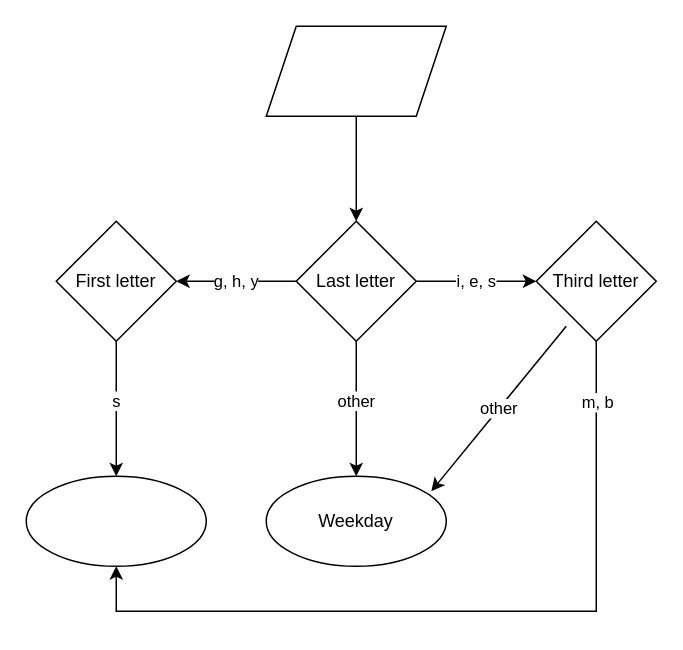
The diagram is 683 pixels wide and 650 high, and some of its shapes have lost their labels. Here are the shapes that lost their labels. From the top down, the box of each, then its label:
(265, 25, 446, 116): Name of the day
(25, 475, 206, 566): Weekend
